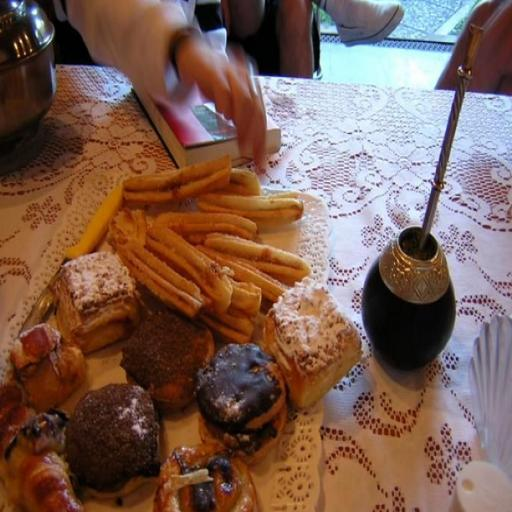bolleria: (263, 278, 362, 408), (195, 343, 286, 464), (67, 384, 160, 495), (121, 310, 215, 412), (52, 252, 138, 353), (147, 227, 231, 312), (120, 243, 202, 317), (123, 157, 231, 204), (198, 193, 303, 227)
mate: (358, 222, 463, 370)
